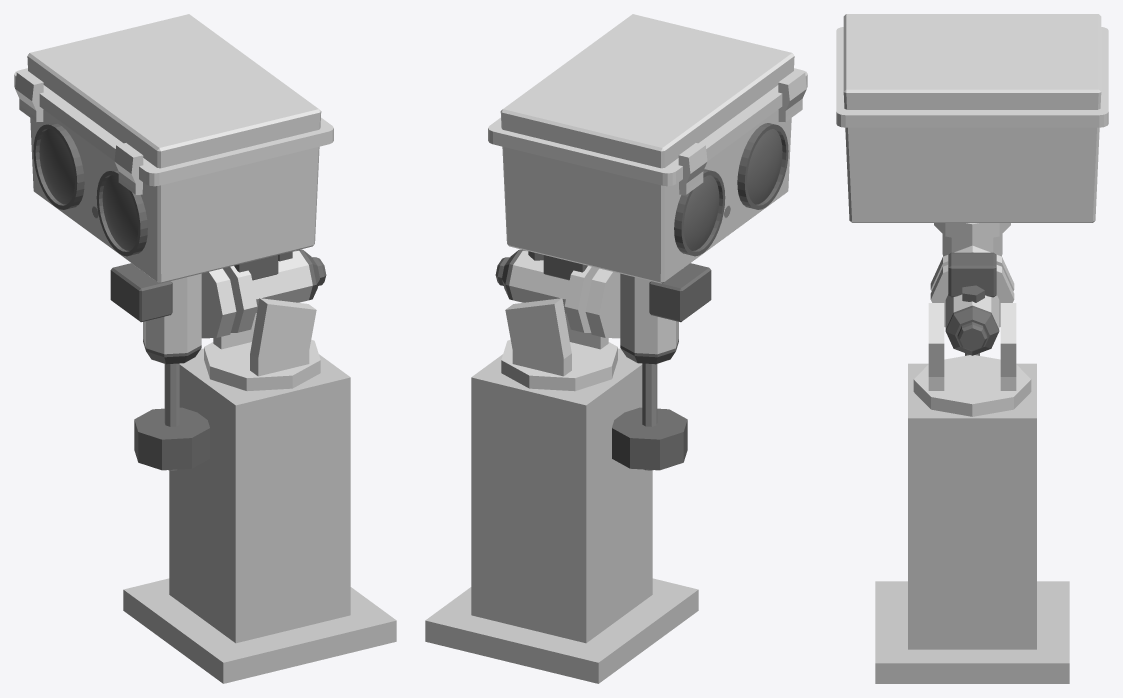
The model's file is unit.glb.
3 renders of one model, left to right at view 1: azimuth 30°, elevation 25°; view 2: azimuth 150°, elevation 25°; view 3: azimuth 270°, elevation 25°, orthographic. The views are drawn at different scales.
Visible parts, largest first — view 1: Cube.007, box_textured, Cylinder, Cylinder.003, Cube.009, Cylinder.002, new_lenses.001, Cylinder.011, Cube.010; view 2: Cube.007, box_textured, Cylinder, Cylinder.003, Cube.009, Cylinder.002, new_lenses.001, Cylinder.011, Cube.010; view 3: box_textured, Cube.007, Cylinder.003, Cube.009, Cylinder.002, Cylinder, Cube.004.
Part boxes in pixels (x1,y1,x2,y2): Cube.007: [123, 348, 396, 683]; box_textured: [27, 14, 321, 283]; Cylinder: [110, 263, 236, 470]; Cylinder.003: [204, 298, 320, 391]; Cube.009: [14, 68, 333, 186]; Cylinder.002: [223, 249, 326, 332]; new_lenses.001: [39, 129, 138, 250]; Cylinder.011: [33, 123, 147, 256]; Cube.010: [15, 70, 143, 194]; Cube.007: [425, 348, 698, 683]; box_textured: [500, 14, 794, 283]; Cylinder: [585, 263, 711, 470]; Cylinder.003: [501, 298, 617, 391]; Cube.009: [488, 68, 807, 186]; Cylinder.002: [495, 249, 598, 332]; new_lenses.001: [683, 129, 782, 250]; Cylinder.011: [674, 123, 788, 256]; Cube.010: [678, 70, 806, 194]; box_textured: [843, 14, 1101, 222]; Cube.007: [875, 363, 1069, 683]; Cylinder.003: [913, 303, 1031, 416]; Cube.009: [836, 27, 1108, 127]; Cylinder.002: [930, 252, 1014, 355]; Cylinder: [930, 234, 1014, 355]; Cube.004: [934, 223, 1010, 241].
Bounding box in the file's own units: 0.5801 × 1.15 × 0.5153.
5 materials, 1 textured.
